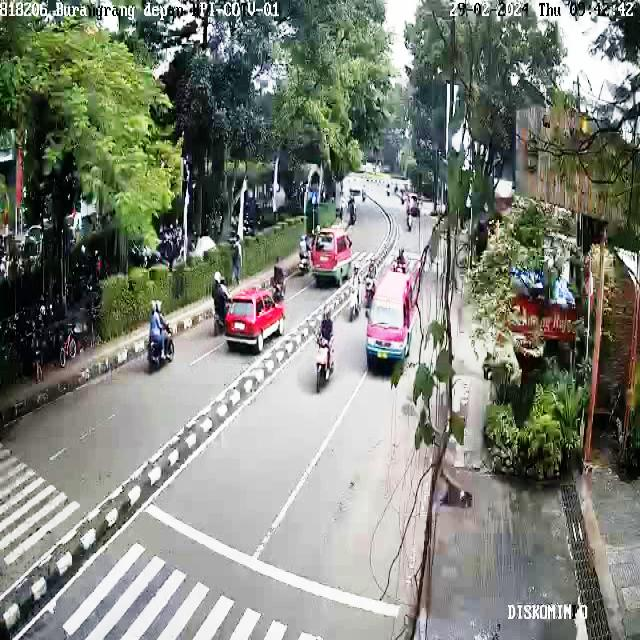Bike: (140, 308, 188, 370), (206, 273, 245, 330), (311, 309, 337, 394), (267, 253, 299, 304), (343, 265, 363, 322), (361, 245, 378, 299), (392, 245, 412, 275), (401, 203, 418, 233)
Car: (366, 254, 424, 375), (220, 280, 282, 362), (312, 218, 354, 288)
